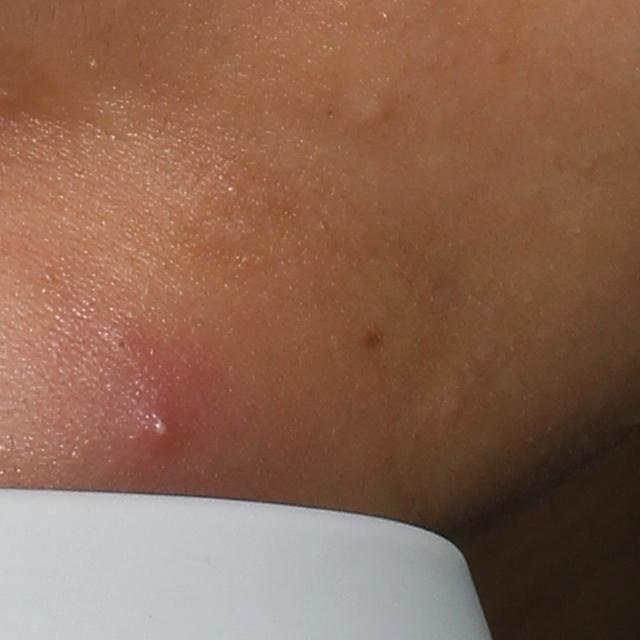pustule: (140, 406, 182, 450)
